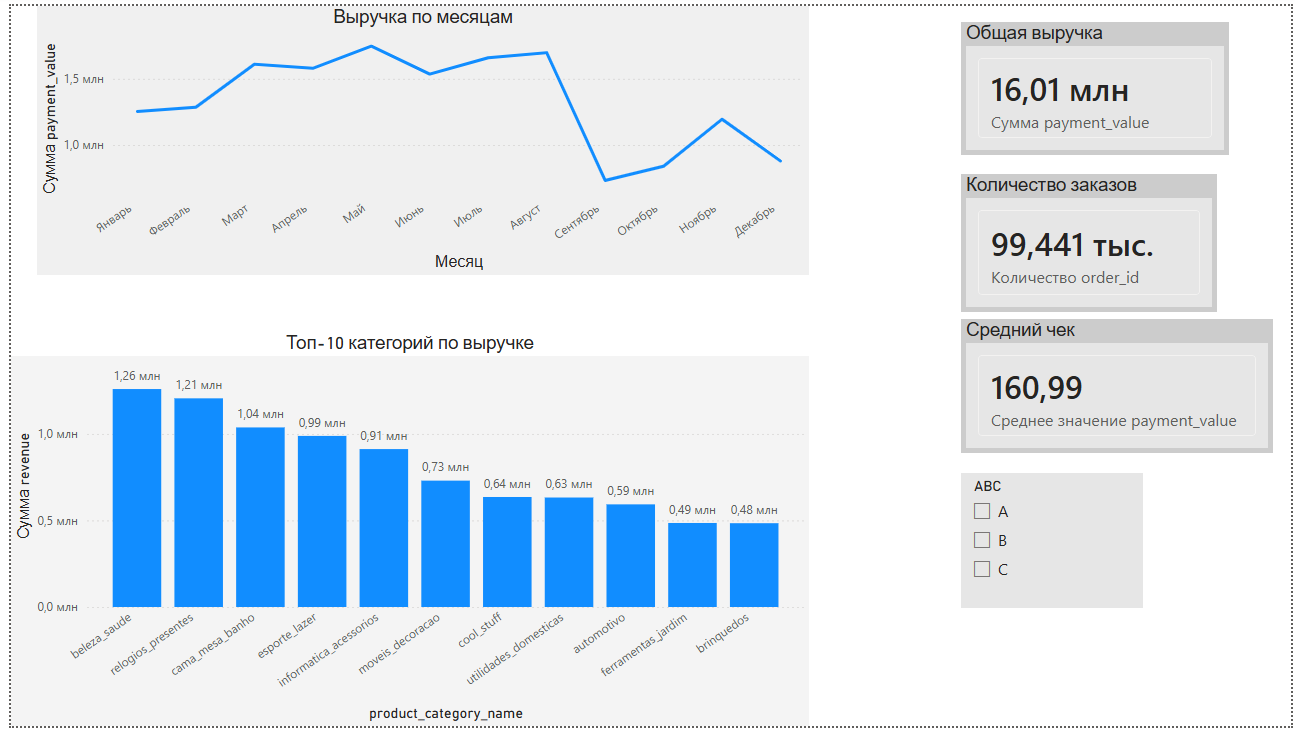

The dashboard page shown, as its layout file describes it:
{"tool":"powerbi","page":{"name":"Страница 1","canvas":[1280,720],"ordinal":0},"visuals":[{"type":"cardVisual","title":"Общая выручка","fields":{"Data":["Sum(orders_payments.payment_value)"]},"box":[950,15.6,267.8,133.3],"z":0},{"type":"cardVisual","title":"Количество заказов","fields":{"Data":["Count(orders_payments.order_id)"]},"box":[950,167.8,255.6,137.8],"z":1000},{"type":"cardVisual","title":"Средний чек","fields":{"Data":["Avg(orders_payments.payment_value)"]},"box":[950,313.3,312.2,133.3],"z":2000},{"type":"lineChart","title":"Выручка по месяцам","fields":{"Category":["orders_payments.order_purchase_timestamp.Изменение.Иерархия дат.Месяц"],"Y":["Sum(orders_payments.payment_value)"]},"box":[25.6,0,772.2,268.9],"z":3000},{"type":"clusteredColumnChart","title":"Топ-10 категорий по выручке","fields":{"Category":["category_agg.product_category_name"],"Y":["Sum(category_agg.revenue)"]},"box":[0,325.6,797.8,394.4],"z":4000},{"type":"slicer","fields":{"Values":["abc.ABC"]},"box":[950,466.7,182.2,135.6],"z":5000}]}

Visuals, with their boxes in screenshot pixels (x1, y1, x2, y2), scaled from the page's 1280x720 canvas onto the 1295x729 screenshot:
"Общая выручка" cardVisual: l=961, t=16, r=1232, b=151
"Количество заказов" cardVisual: l=961, t=170, r=1220, b=309
"Средний чек" cardVisual: l=961, t=317, r=1277, b=452
"Выручка по месяцам" lineChart: l=26, t=0, r=807, b=272
"Топ-10 категорий по выручке" clusteredColumnChart: l=0, t=330, r=807, b=728
slicer - abc.ABC: l=961, t=473, r=1145, b=610
